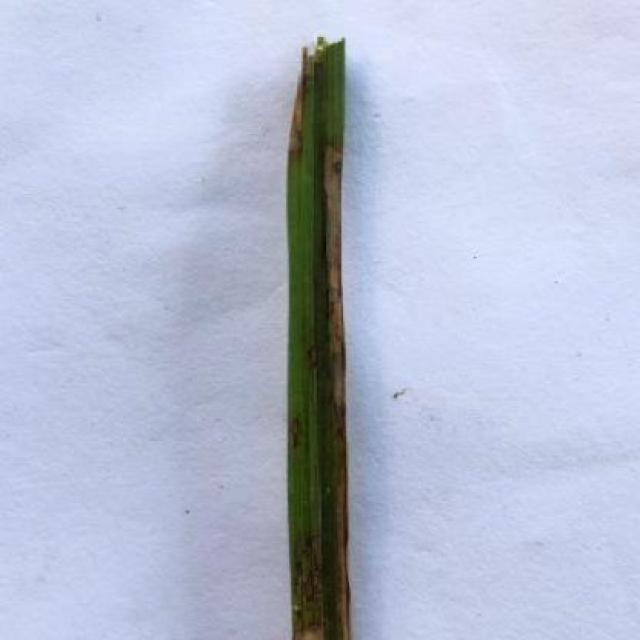Brown_Spot: (282, 23, 362, 640)
